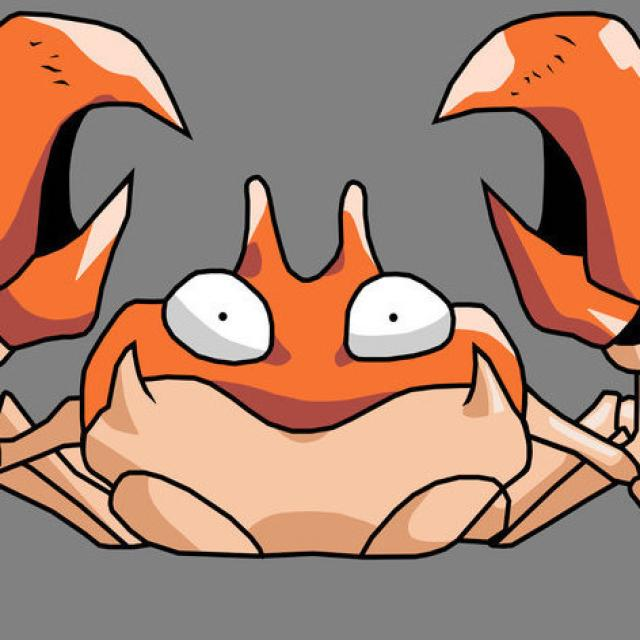Krabby: (0, 162, 625, 557)
